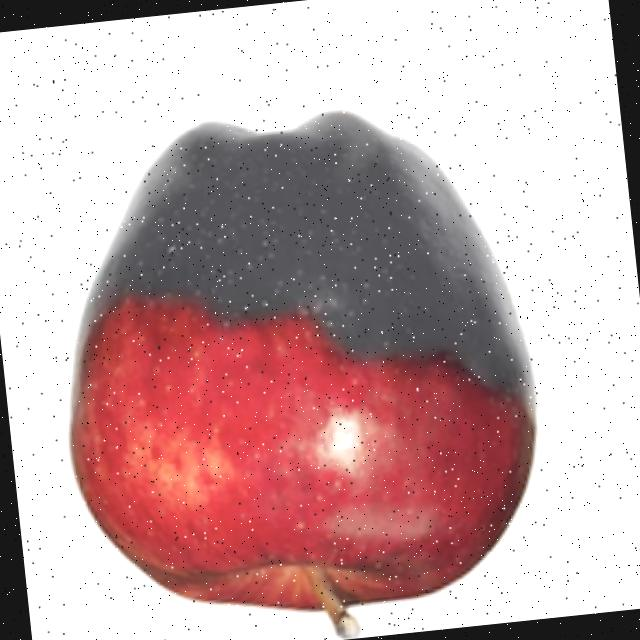Rotten: (32, 89, 558, 640)
